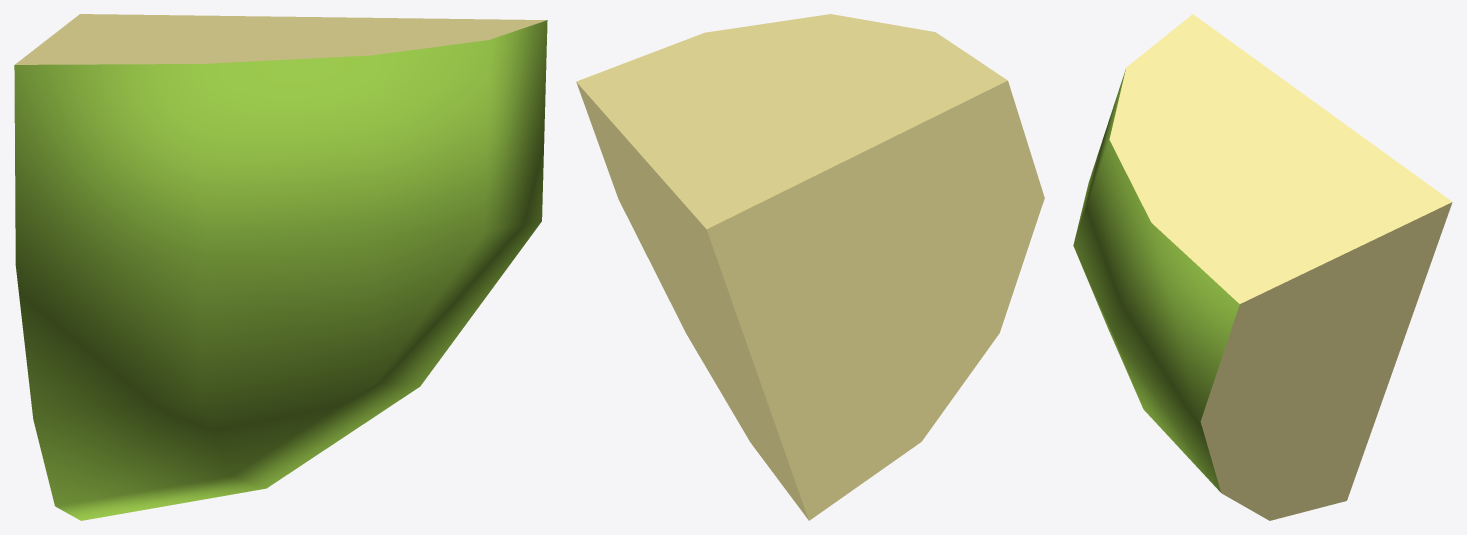
Rendered from pear-slice.fbx.
3 views of the same model, side by side, from view 1: azimuth 30°, elevation 25°; view 2: azimuth 150°, elevation 25°; view 3: azimuth 270°, elevation 25° (orthographic). The views are drawn at different scales.
Parts seen in each view (by area): view 1: pear-slice; view 2: pear-slice; view 3: pear-slice.
Part boxes in pixels (box(x1,y1,x2,y2)): pear-slice: box(14, 14, 547, 520); pear-slice: box(576, 14, 1044, 520); pear-slice: box(1073, 14, 1452, 520).
Size of the model in its own units: 121 by 113 by 91.03.
